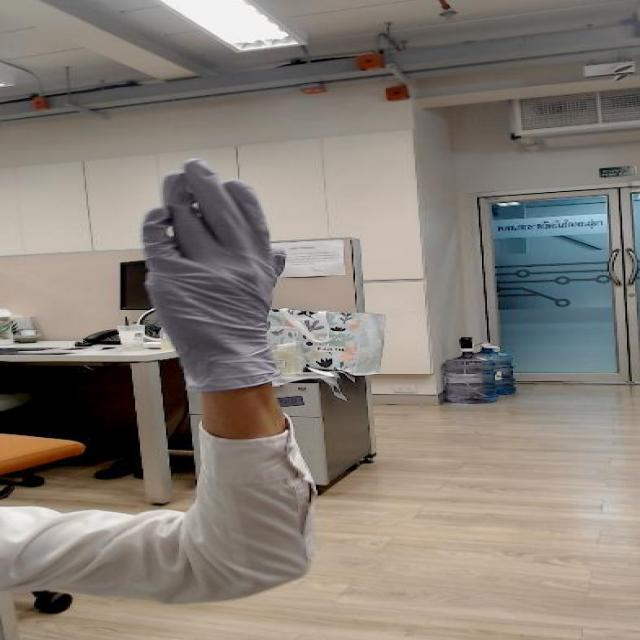with_gloves: (105, 149, 318, 345)
